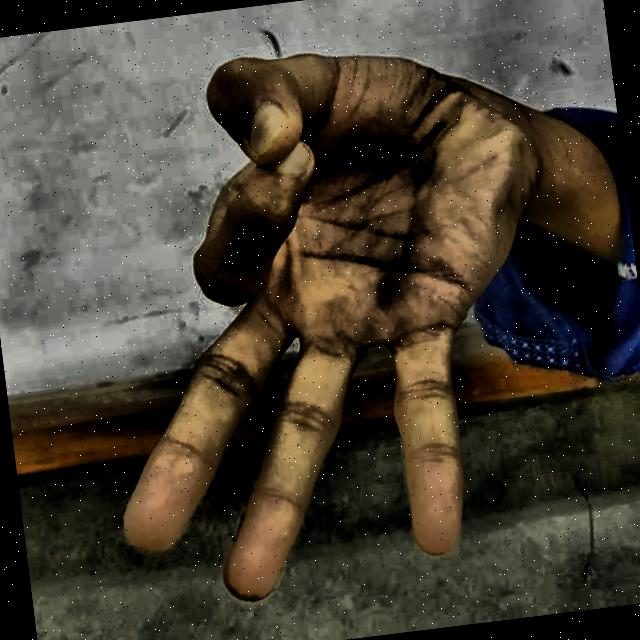Fa: (21, 4, 600, 640)
